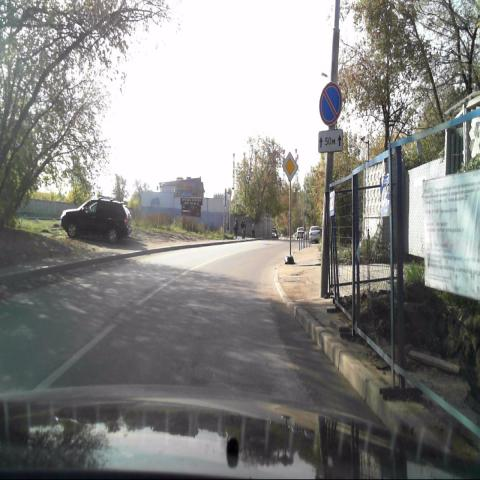2_1: (282, 151, 298, 184)
3_28: (318, 82, 343, 126)
8_2_1: (318, 129, 344, 154)
